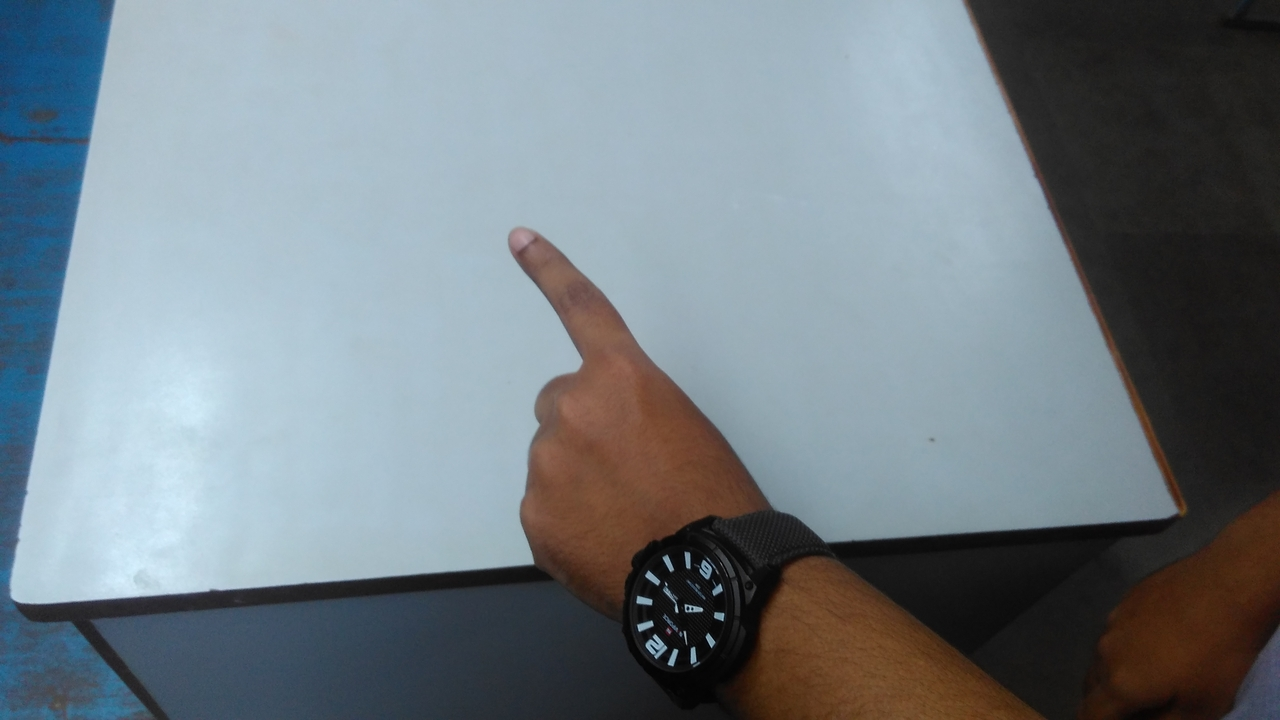fingertip: (494, 214, 564, 268)
